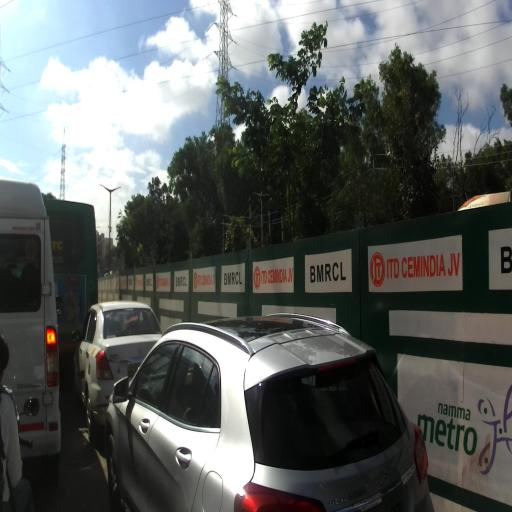street_light_0: (99, 183, 112, 196), (110, 186, 122, 196), (96, 226, 100, 230)
